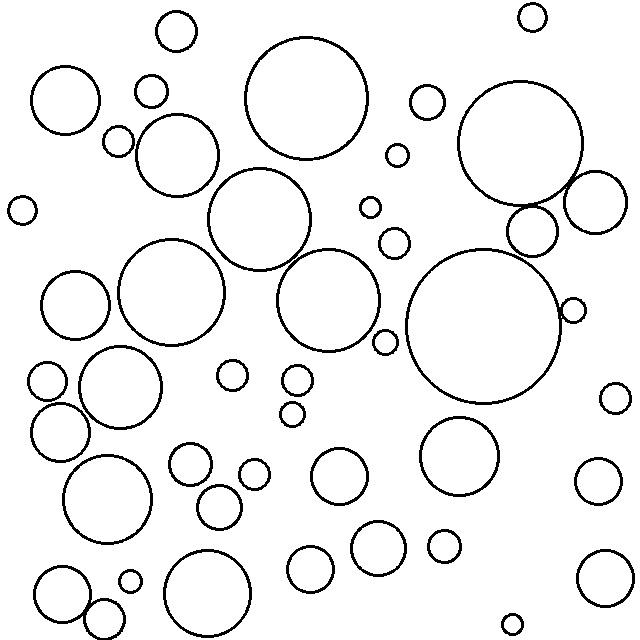circle: (403, 246, 564, 408), (456, 77, 587, 207), (243, 33, 372, 163), (114, 236, 230, 350), (205, 165, 314, 274), (275, 249, 384, 354), (61, 452, 156, 548), (162, 547, 255, 638), (75, 345, 167, 432), (133, 111, 222, 199), (416, 412, 503, 500), (29, 62, 103, 138), (38, 269, 113, 342), (562, 168, 631, 238), (29, 400, 94, 465), (31, 562, 94, 625), (309, 445, 371, 509), (574, 546, 634, 611), (348, 517, 409, 578), (504, 201, 561, 259), (571, 454, 626, 509), (285, 543, 338, 594), (195, 481, 246, 533), (166, 439, 215, 489), (153, 8, 200, 56), (83, 594, 128, 639), (25, 358, 69, 404), (407, 81, 449, 123), (426, 526, 465, 567), (213, 355, 252, 394), (133, 72, 171, 110), (279, 361, 317, 399), (100, 123, 137, 161), (597, 380, 634, 418), (237, 456, 275, 493), (377, 224, 413, 261), (5, 192, 40, 228), (515, 0, 550, 34), (370, 325, 401, 357), (276, 399, 310, 428), (558, 296, 591, 325), (383, 140, 414, 170), (117, 566, 145, 595), (357, 192, 383, 221), (500, 611, 528, 636)
